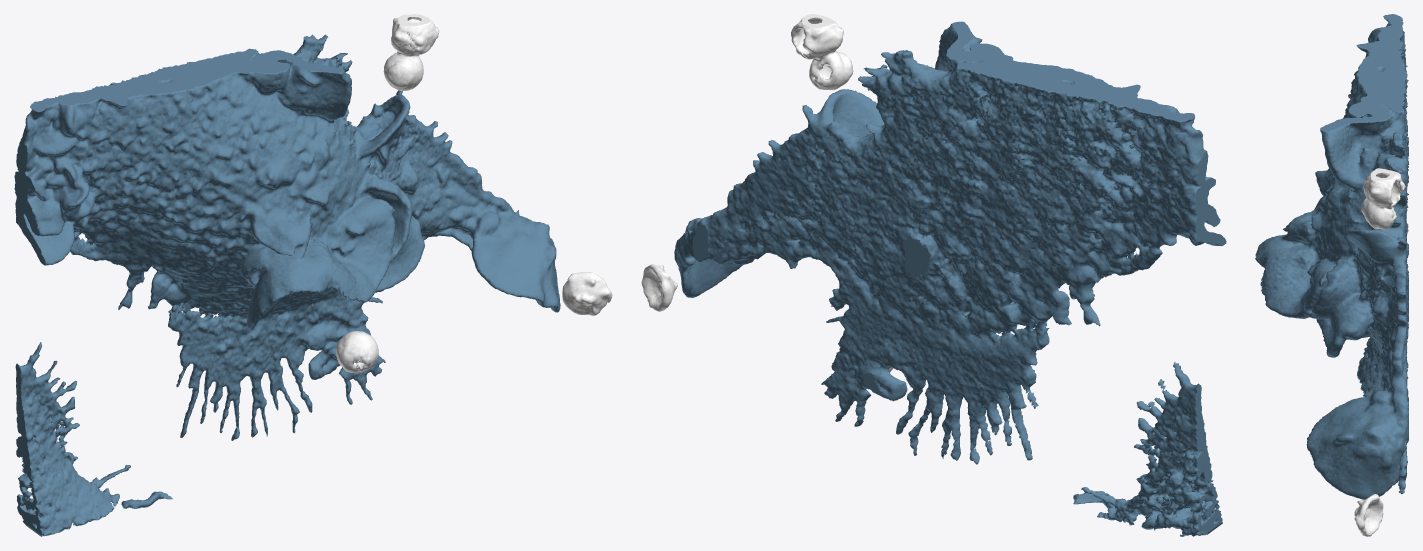
3 views of the same model, side by side, from view 1: azimuth 30°, elevation 25°; view 2: azimuth 150°, elevation 25°; view 3: azimuth 270°, elevation 25° (orthographic). The views are drawn at different scales.
Parts seen in each view (by area): view 1: surface (×2); view 2: surface (×2); view 3: surface (×2).
Boxes of the visible parts, <box> form: surface (×2): <box>14,14,612,536</box>; surface (×2): <box>641,14,1226,536</box>; surface (×2): <box>1255,14,1408,536</box>.
Size of the model in its own units: 633 by 436 by 169.
